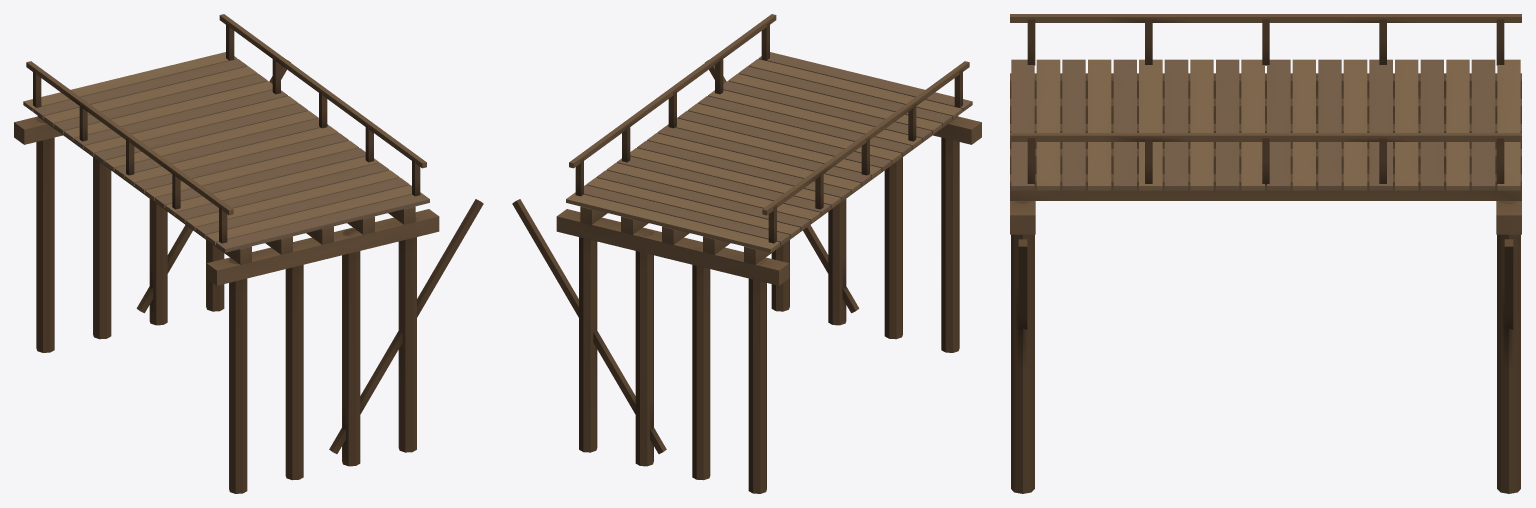
File: bridge-timber.glb
The picture shows the model from 3 angles, left to right: view 1: azimuth 30°, elevation 25°; view 2: azimuth 150°, elevation 25°; view 3: azimuth 270°, elevation 25°; orthographic projection. The views are drawn at different scales.
Parts seen in each view (by area): view 1: base; view 2: base; view 3: base.
Part boxes in pixels (x1,y1,x2,y2): base: (14,14,483,493); base: (512,14,981,493); base: (1010,14,1521,493).
Size of the model in its own units: 9.24 by 9.36 by 12.
